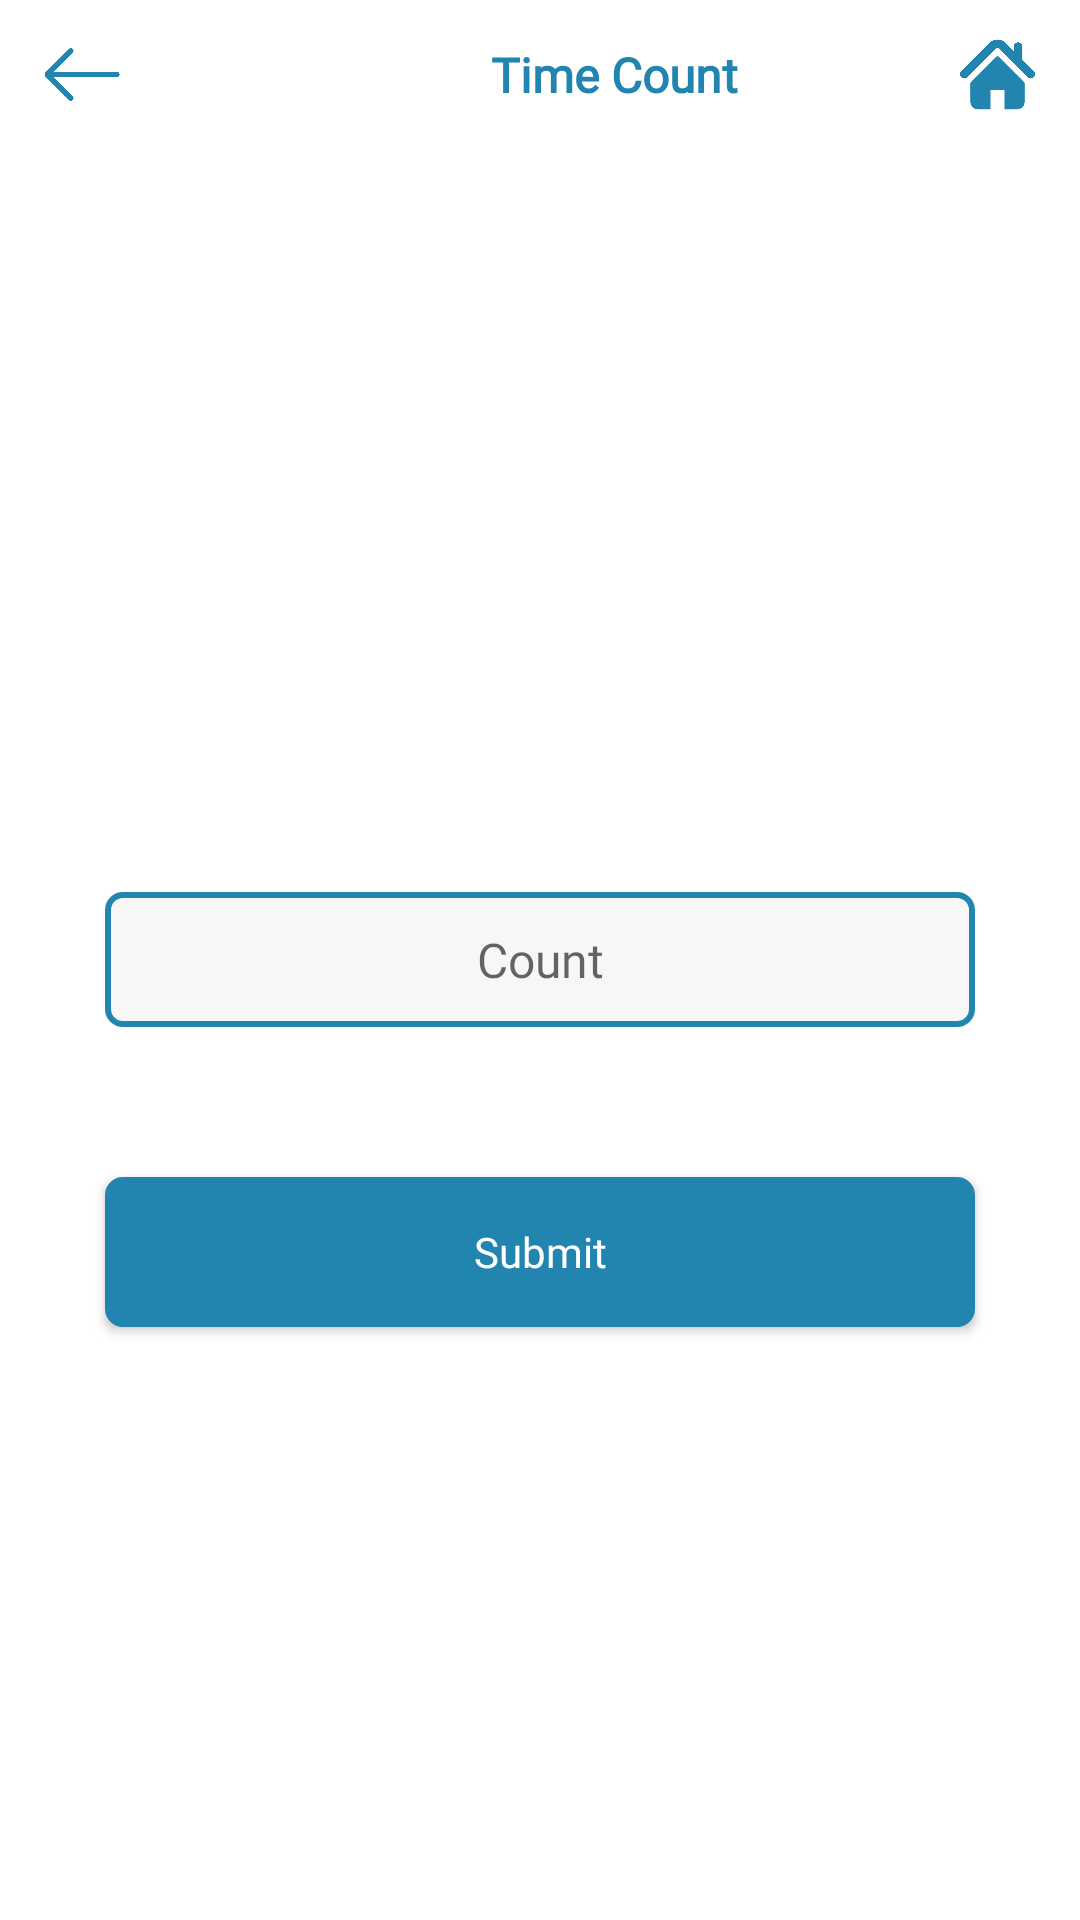

Screen size 1080×1920. Icon name, then its center in pixels as (x=x, y=y):
back: (x=82, y=74)
home: (x=997, y=74)
